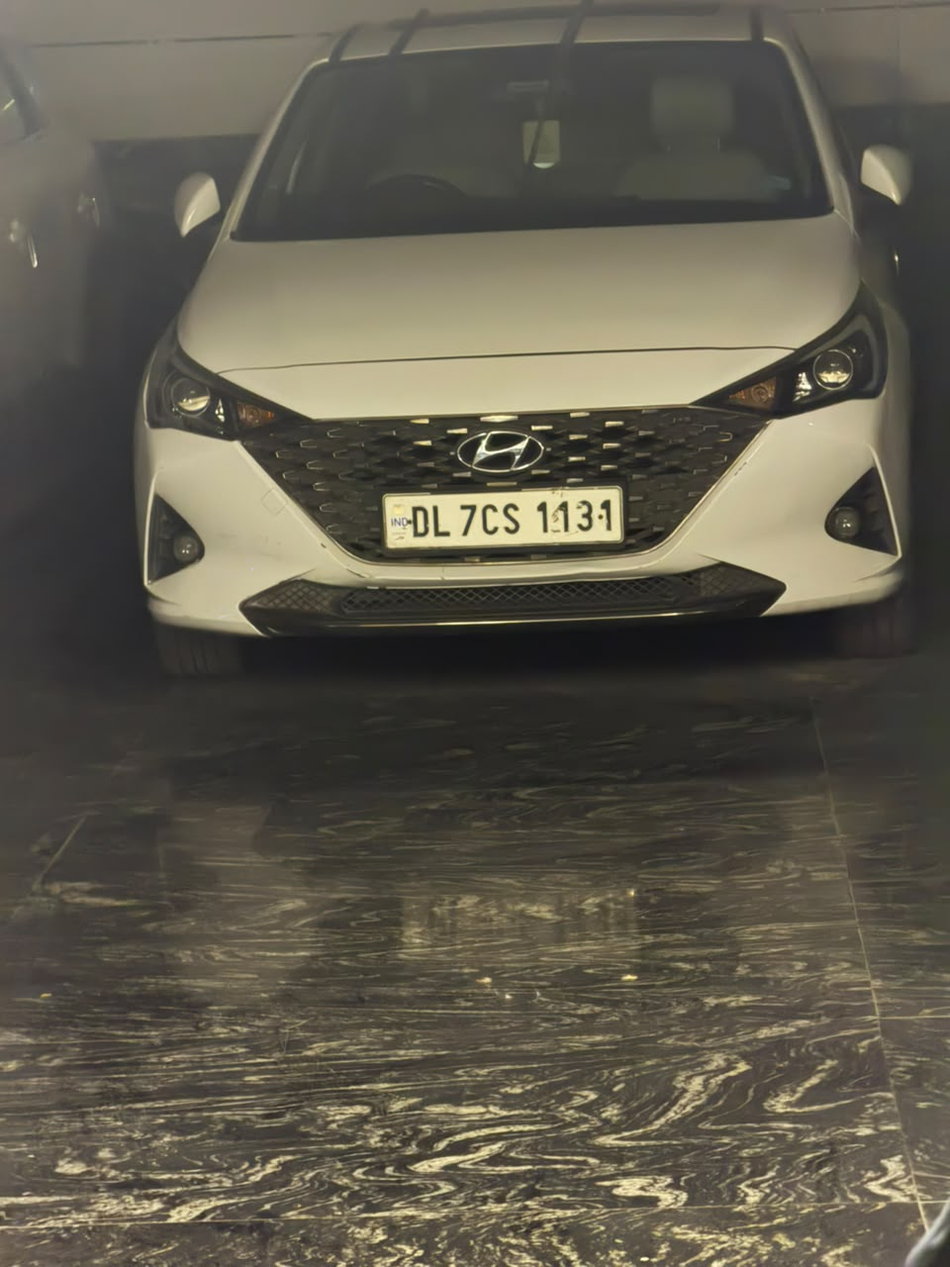vehicle: (382, 484, 622, 548)
